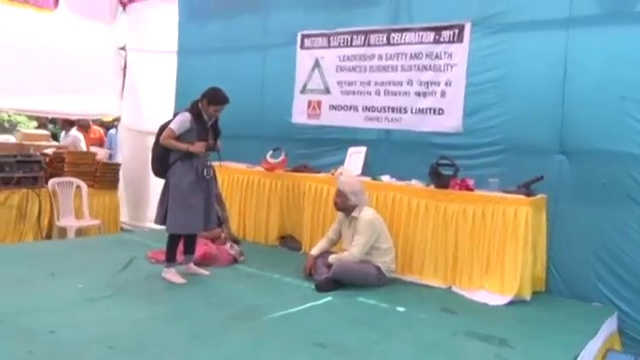helmet_off: (331, 179, 365, 214), (198, 86, 229, 121)
person: (147, 87, 231, 291), (303, 176, 400, 294), (191, 165, 244, 267), (76, 116, 106, 159), (58, 114, 86, 156), (31, 113, 59, 142), (103, 119, 121, 164)
